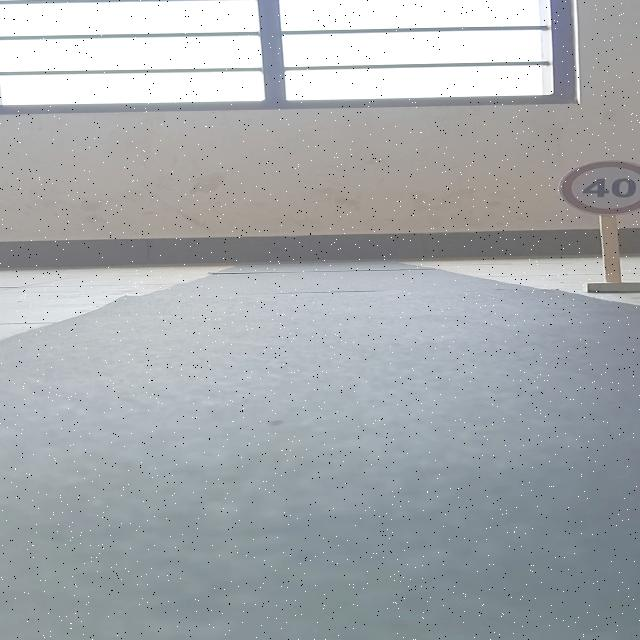Speed40: (553, 156, 640, 216)
